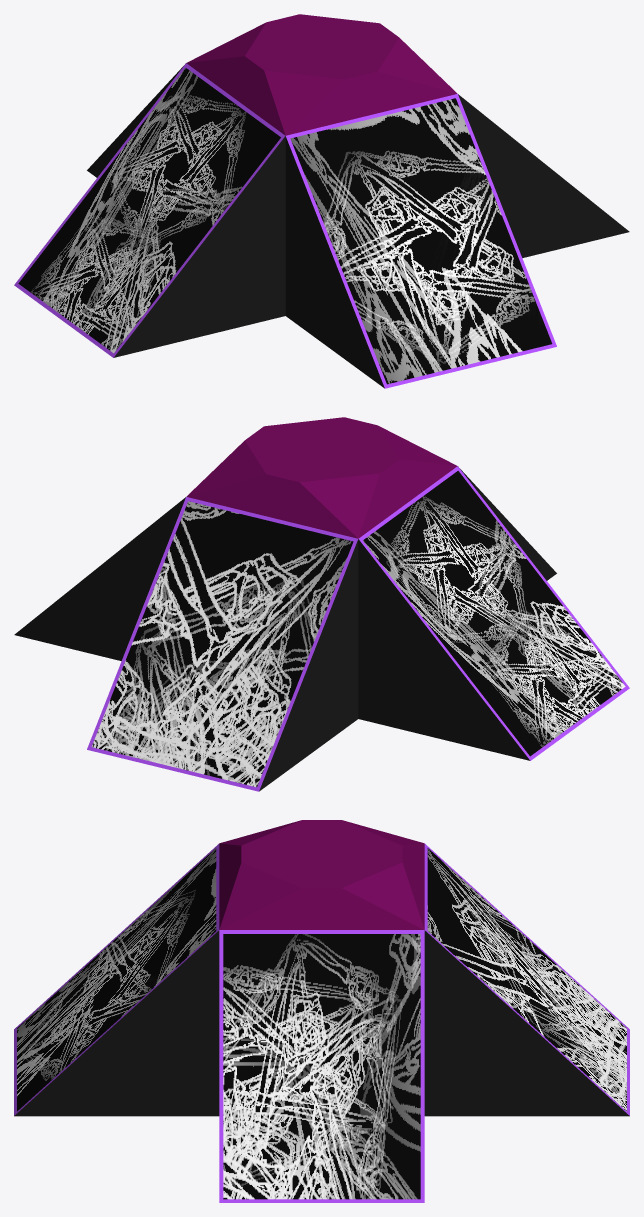
Rendered from temple.fbx.
The picture shows the model from 3 angles, top to bottom: view 1: azimuth 30°, elevation 25°; view 2: azimuth 150°, elevation 25°; view 3: azimuth 270°, elevation 25°; orthographic projection. The views are drawn at different scales.
Parts seen in each view (by area): view 1: Cube.003; view 2: Cube.003; view 3: Cube.003.
Boxes of the visible parts, <box> form: Cube.003: <box>14,14,629,388</box>; Cube.003: <box>14,417,629,791</box>; Cube.003: <box>14,820,629,1202</box>.
Bounding box in the file's own units: 300 × 118 × 300.
